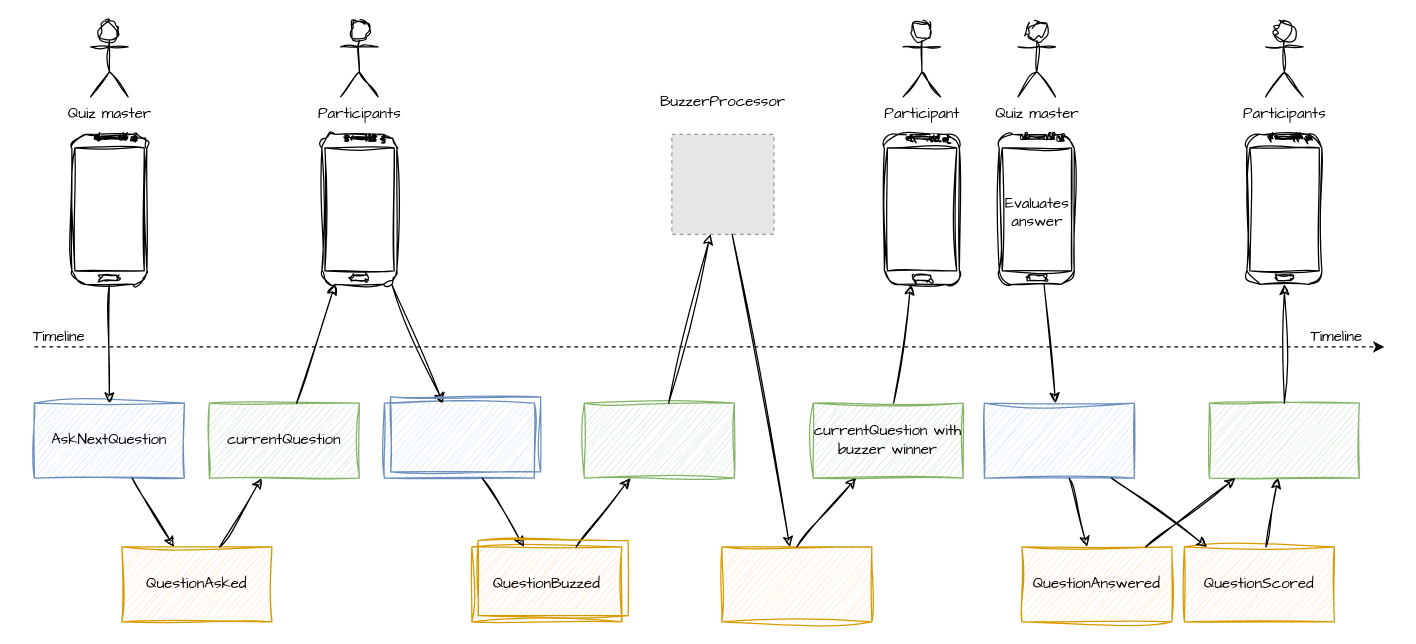
Image size: 1416x644. Some labels were removed from this diagram. Grey dashed boxes stand in for pictures. Here are the shapes that lost their labels. From the top down, the centre of each, then its label:
(x=921, y=208): Answers question
(x=458, y=440): BuzzQuestion
(x=658, y=440): Players which hit the buzzer
(x=1058, y=440): AcceptBuzzer Answer
(x=1283, y=440): scoreboard
(x=796, y=584): QuestionBuzzerWon
